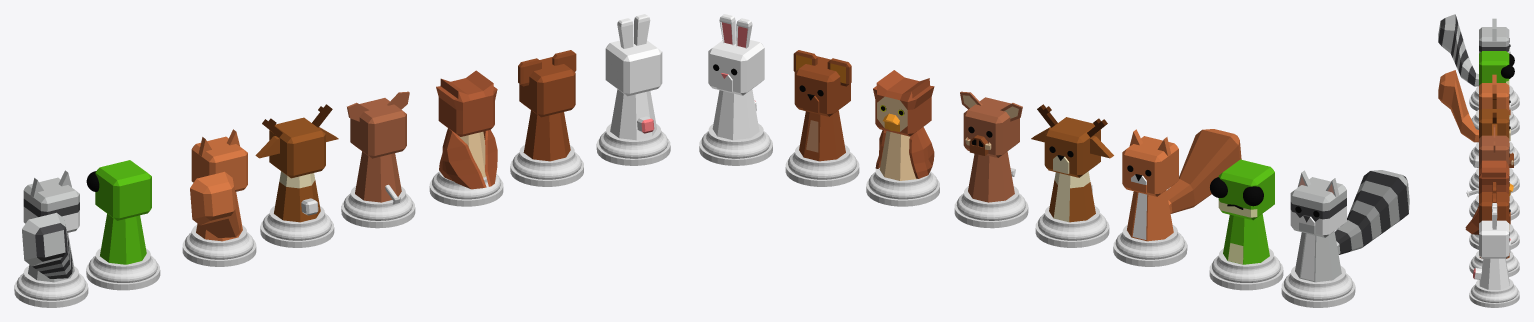
File: pion.glb
The picture shows the model from 3 angles, left to right: view 1: azimuth 30°, elevation 25°; view 2: azimuth 150°, elevation 25°; view 3: azimuth 270°, elevation 25°; orthographic projection. The views are drawn at different scales.
Visible parts, largest first — view 1: corps_grenouille, corps_sanglier, corps_ours, corps_lapin, corps_cerf, corps_pingouin, queue_ecureuil, queue_raton_laveur, corps_ecureuil, corps_raton_laveur, aile_hibou, base_grenouille (+10 smaller); view 2: corps_ecureuil, corps_raton_laveur, corps_sanglier, corps_lapin, corps_cerf, corps_pingouin, corps_grenouille, corps_ours, queue_raton_laveur, queue_ecureuil, base_grenouille, base_ecureuil (+11 smaller); view 3: corps_lapin, queue_ecureuil, queue_raton_laveur, corps_pingouin, base_lapin, corps_grenouille, corps_sanglier, corps_ours, corps_cerf, corps_ecureuil, corps_raton_laveur, base_ours (+15 smaller).
Part boxes in pixels (<box>): corps_grenouille: <box>95,160,151,264</box>; corps_sanglier: <box>350,98,406,202</box>; corps_ours: <box>519,57,575,161</box>; corps_lapin: <box>605,37,662,140</box>; corps_cerf: <box>269,117,325,222</box>; corps_pingouin: <box>436,70,497,177</box>; queue_ecureuil: <box>190,171,241,237</box>; queue_raton_laveur: <box>22,212,72,278</box>; corps_ecureuil: <box>191,136,247,241</box>; corps_raton_laveur: <box>23,177,79,282</box>; aile_hibou: <box>439,128,497,189</box>; base_grenouille: <box>86,248,160,290</box>; corps_ecureuil: <box>1122,136,1178,241</box>; corps_raton_laveur: <box>1290,177,1346,282</box>; corps_sanglier: <box>963,97,1019,202</box>; corps_lapin: <box>708,36,764,140</box>; corps_cerf: <box>1044,117,1100,222</box>; corps_pingouin: <box>873,70,934,180</box>; corps_grenouille: <box>1218,159,1274,264</box>; corps_ours: <box>794,56,850,161</box>; queue_raton_laveur: <box>1334,170,1409,254</box>; queue_ecureuil: <box>1166,129,1241,213</box>; base_grenouille: <box>1209,248,1283,290</box>; base_ecureuil: <box>1113,224,1187,266</box>; corps_lapin: <box>1479,220,1510,289</box>; queue_ecureuil: <box>1438,70,1478,142</box>; queue_raton_laveur: <box>1438,14,1478,86</box>; corps_pingouin: <box>1479,160,1513,230</box>; base_lapin: <box>1469,279,1519,307</box>; corps_grenouille: <box>1479,51,1510,116</box>; corps_sanglier: <box>1479,135,1513,200</box>; corps_ours: <box>1479,192,1510,258</box>; corps_cerf: <box>1479,109,1510,174</box>; corps_ecureuil: <box>1479,83,1510,146</box>; corps_raton_laveur: <box>1479,27,1510,92</box>; base_ours: <box>1469,251,1519,276</box>.
Size of the model in its own units: 21.24 by 3.99 by 3.27.
